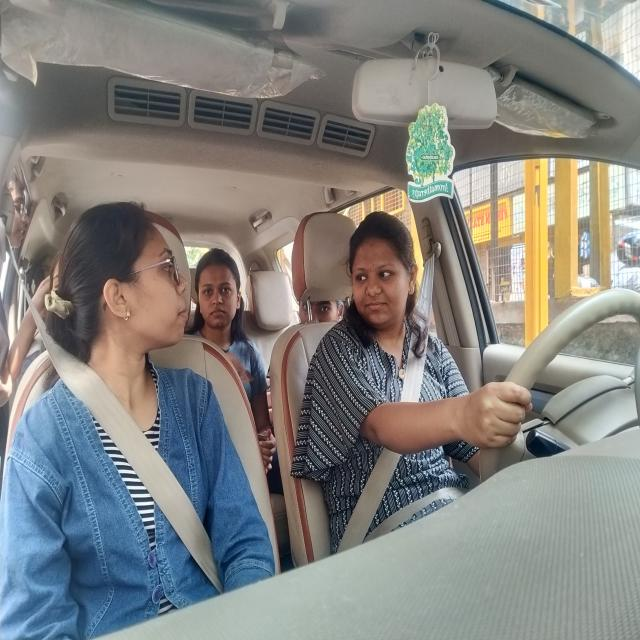LeftRight: (349, 215, 418, 335)
person: (65, 206, 199, 346), (196, 243, 247, 328), (41, 245, 61, 338)
